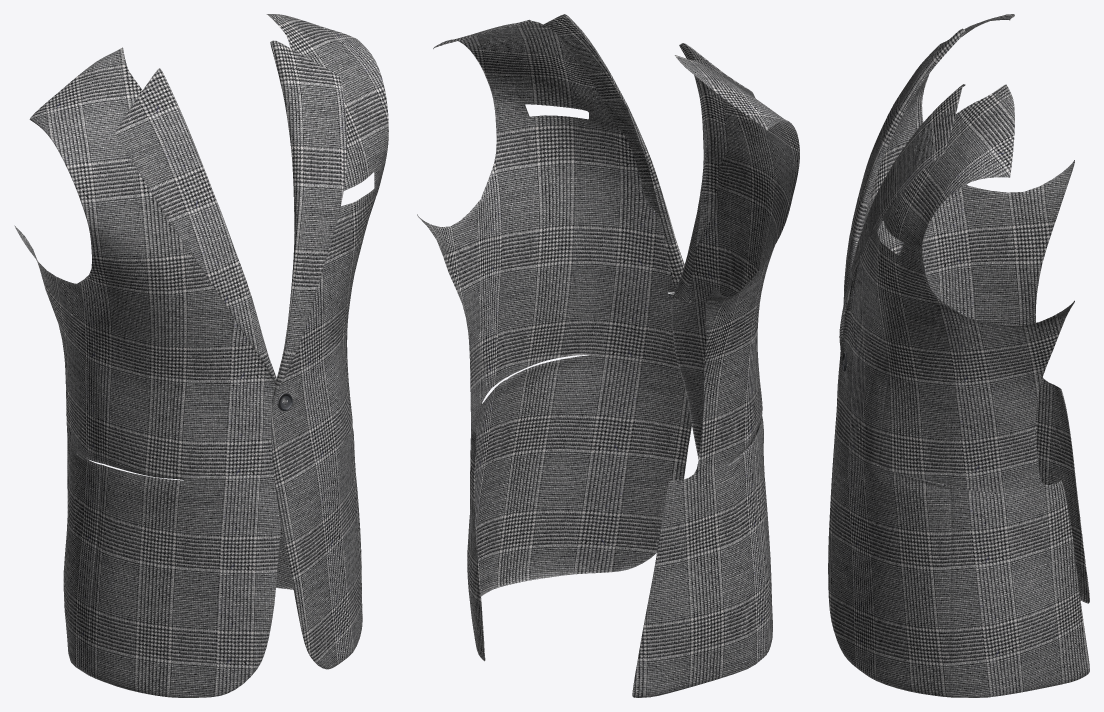
Rendered from nochsinglebtn.glb.
3 renders of one model, left to right at view 1: azimuth 30°, elevation 25°; view 2: azimuth 150°, elevation 25°; view 3: azimuth 270°, elevation 25°, orthographic. The views are drawn at different scales.
Parts seen in each view (by area): view 1: notch_single_button1; view 2: notch_single_button1; view 3: notch_single_button1.
Part boxes in pixels (x1=…): notch_single_button1: x1=14, y1=14, x2=388, y2=697; notch_single_button1: x1=417, y1=14, x2=799, y2=697; notch_single_button1: x1=828, y1=14, x2=1089, y2=697.
Bounding box in the file's own units: 0.0585 × 0.1024 × 0.0411.
4 materials, 3 textured.
